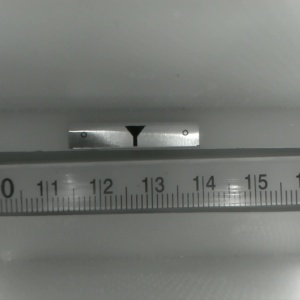0: (1, 177, 14, 198)
1: (36, 180, 43, 196), (51, 180, 58, 195), (141, 177, 147, 193), (245, 174, 251, 190), (89, 179, 95, 194), (193, 176, 199, 191), (295, 172, 300, 189)
2: (103, 178, 113, 194)
3: (154, 177, 164, 193)
4: (206, 176, 215, 190)
5: (257, 174, 267, 189)
finger: (122, 126, 145, 147)
